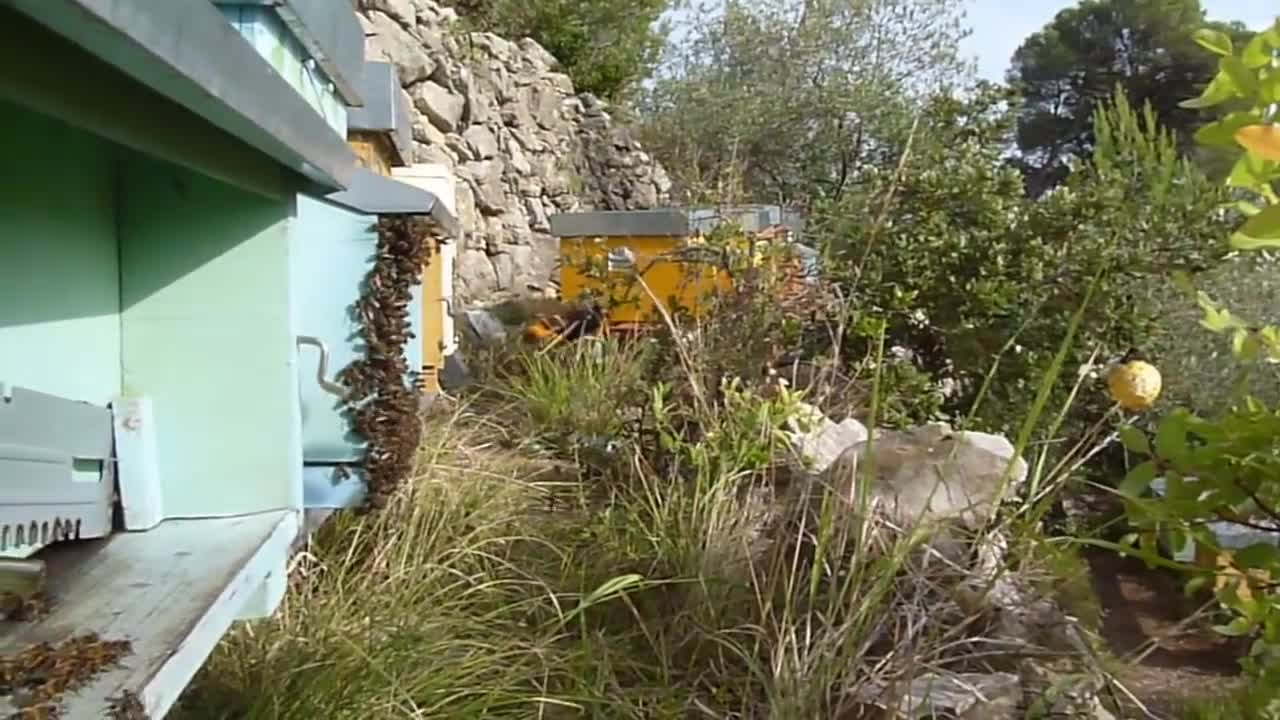bee: (12, 626, 138, 695), (353, 324, 419, 390), (365, 215, 442, 270), (357, 266, 417, 331), (359, 423, 418, 485), (337, 366, 396, 423), (9, 583, 57, 626), (105, 685, 159, 720)
hornet: (509, 285, 614, 355)
